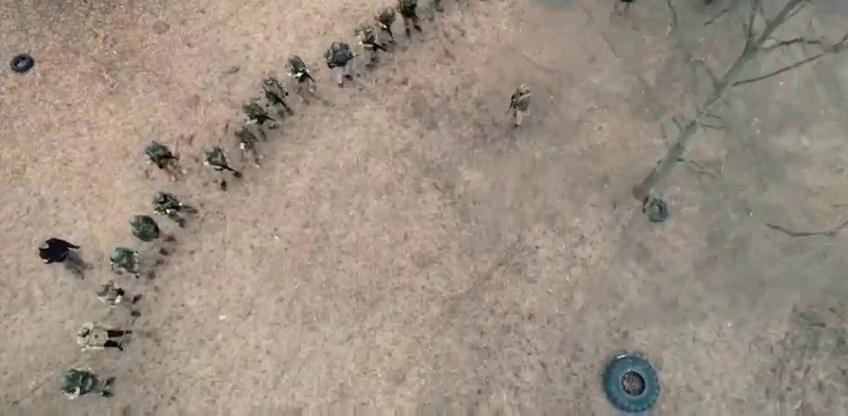person: (38, 238, 94, 280), (130, 214, 176, 256), (284, 54, 320, 106), (60, 368, 116, 401), (204, 144, 242, 192), (146, 140, 188, 182), (76, 322, 134, 352), (97, 280, 142, 318), (242, 97, 280, 142), (153, 191, 198, 228), (358, 22, 390, 70), (324, 42, 355, 88), (262, 76, 294, 116), (236, 125, 264, 169), (506, 84, 531, 129), (110, 247, 141, 279), (398, 0, 422, 39), (374, 7, 396, 46)
